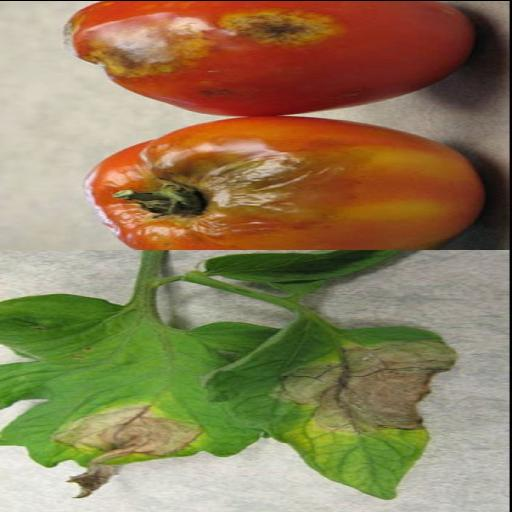Late Blight: (0, 294, 258, 496), (202, 325, 457, 500)
